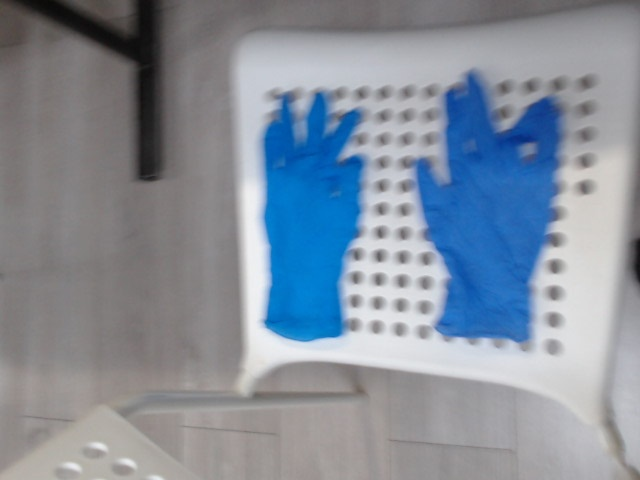medical_glove: (417, 75, 557, 341), (262, 94, 359, 338)
